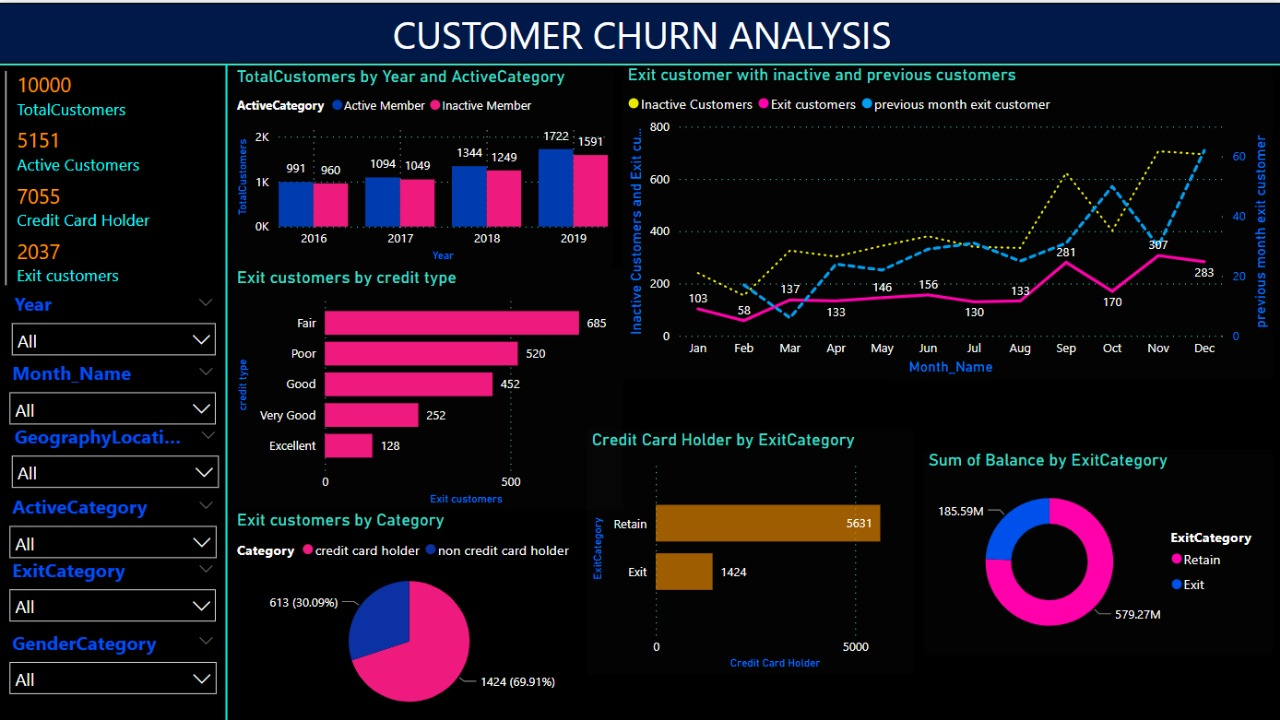

The dashboard page shown, as its layout file describes it:
{"tool":"powerbi","page":{"name":"Page 1","canvas":[1280,720],"ordinal":0},"visuals":[{"type":"textbox","box":[0,0,1280.3,60.4],"z":0},{"type":"shape","box":[0,39.1,1280.5,44.8],"z":1000},{"type":"slicer","fields":{"Values":["DateMaster.Year"]},"box":[2.5,282.5,223.8,96.2],"z":2000},{"type":"slicer","fields":{"Values":["DateMaster.Month_Name"]},"box":[0,351.2,226.2,113.8],"z":3000},{"type":"slicer","fields":{"Values":["Geography.GeographyLocation"]},"box":[2.3,414.9,226.4,101.1],"z":4000},{"type":"slicer","fields":{"Values":["ActiveCustomer.ActiveCategory"]},"box":[0,485.1,226.4,98.9],"z":5000},{"type":"slicer","fields":{"Values":["ExitCustomer.ExitCategory"]},"box":[0,548.8,226.2,98.8],"z":6000},{"type":"slicer","fields":{"Values":["Gender.GenderCategory"]},"box":[0,620.7,226.4,98.9],"z":7000},{"type":"clusteredColumnChart","fields":{"Category":["DateMaster.Year","DateMaster.Month_Name"],"Y":["Calculation.TotalCustomers"],"Series":["ActiveCustomer.ActiveCategory"]},"box":[232.5,63.8,380,200],"z":8000},{"type":"lineChart","title":"Exit customer with inactive and previous customers","fields":{"Category":["DateMaster.Month_Name"],"Y":["Calculation.Inactive Customers","Calculation.Exit customers"],"Y2":["Calculation.previous month exit customer"]},"box":[621.8,60.9,648.3,314.9],"z":9000},{"type":"clusteredBarChart","fields":{"Category":["Bank_Churn.credit type"],"Y":["Calculation.Exit customers"]},"box":[232.5,263.8,390,242.5],"z":11000},{"type":"pieChart","fields":{"Category":["CreditCard.Category"],"Y":["Calculation.Exit customers"]},"box":[232.5,506.2,353.8,213.8],"z":12000},{"type":"donutChart","fields":{"Y":["Sum(Bank_Churn.Balance)"],"Category":["ExitCustomer.ExitCategory"]},"box":[921.8,446,348.3,204.6],"z":13000},{"type":"multiRowCard","fields":{"Values":["Calculation.TotalCustomers","Calculation.Active Customers","Calculation.Credit Card Holder","Calculation.Exit customers"]},"box":[1.2,63.8,211.2,226.2],"z":14000},{"type":"shape","box":[208.8,61.2,35,658.8],"z":15000},{"type":"barChart","fields":{"Y":["Calculation.Credit Card Holder"],"Category":["ExitCustomer.ExitCategory"]},"box":[586.2,425.3,325.3,244.8],"z":16000}]}

Visuals, with their boxes in screenshot pixels (x1, y1, x2, y2), scaled from the page's 1280x720 canvas onto the 1280x720 screenshot:
textbox: region(0, 0, 1279, 60)
shape: region(0, 39, 1279, 84)
slicer - DateMaster.Year: region(2, 282, 226, 379)
slicer - DateMaster.Month_Name: region(0, 351, 226, 465)
slicer - Geography.GeographyLocation: region(2, 415, 229, 516)
slicer - ActiveCustomer.ActiveCategory: region(0, 485, 226, 584)
slicer - ExitCustomer.ExitCategory: region(0, 549, 226, 648)
slicer - Gender.GenderCategory: region(0, 621, 226, 719)
clusteredColumnChart - DateMaster.Year x DateMaster.Month_Name: region(232, 64, 612, 264)
"Exit customer with inactive and previous customers" lineChart: region(622, 61, 1270, 376)
clusteredBarChart - Bank_Churn.credit type x Calculation.Exit customers: region(232, 264, 622, 506)
pieChart - CreditCard.Category x Calculation.Exit customers: region(232, 506, 586, 719)
donutChart - Sum(Bank_Churn.Balance) x ExitCustomer.ExitCategory: region(922, 446, 1270, 651)
multiRowCard - Calculation.TotalCustomers x Calculation.Active Customers: region(1, 64, 212, 290)
shape: region(209, 61, 244, 719)
barChart - Calculation.Credit Card Holder x ExitCustomer.ExitCategory: region(586, 425, 912, 670)
